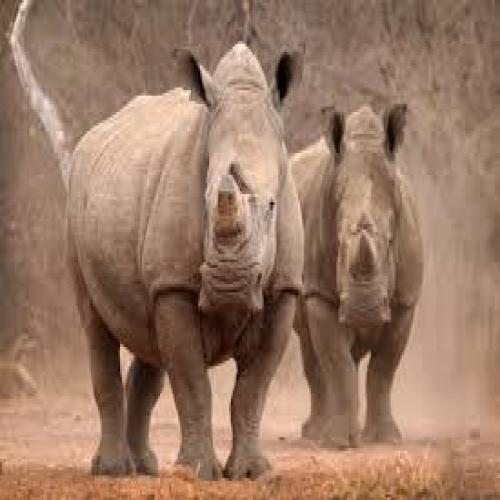rhino-endangered: (68, 49, 299, 485), (298, 98, 425, 440)
